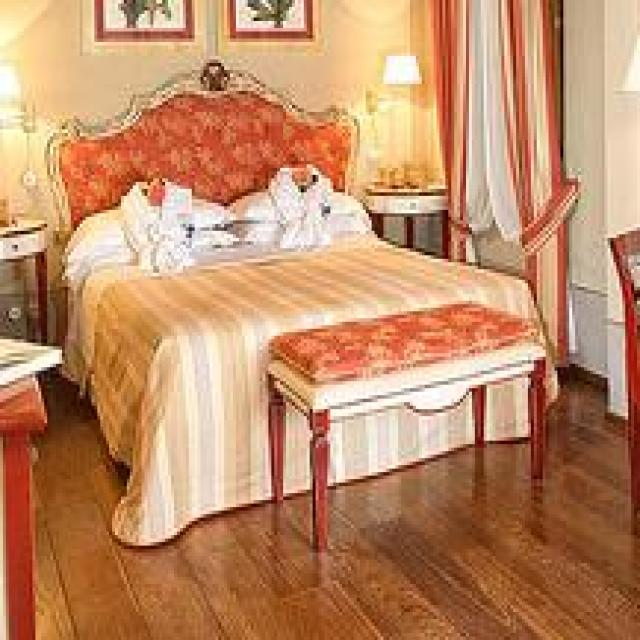bed: (45, 59, 558, 546)
